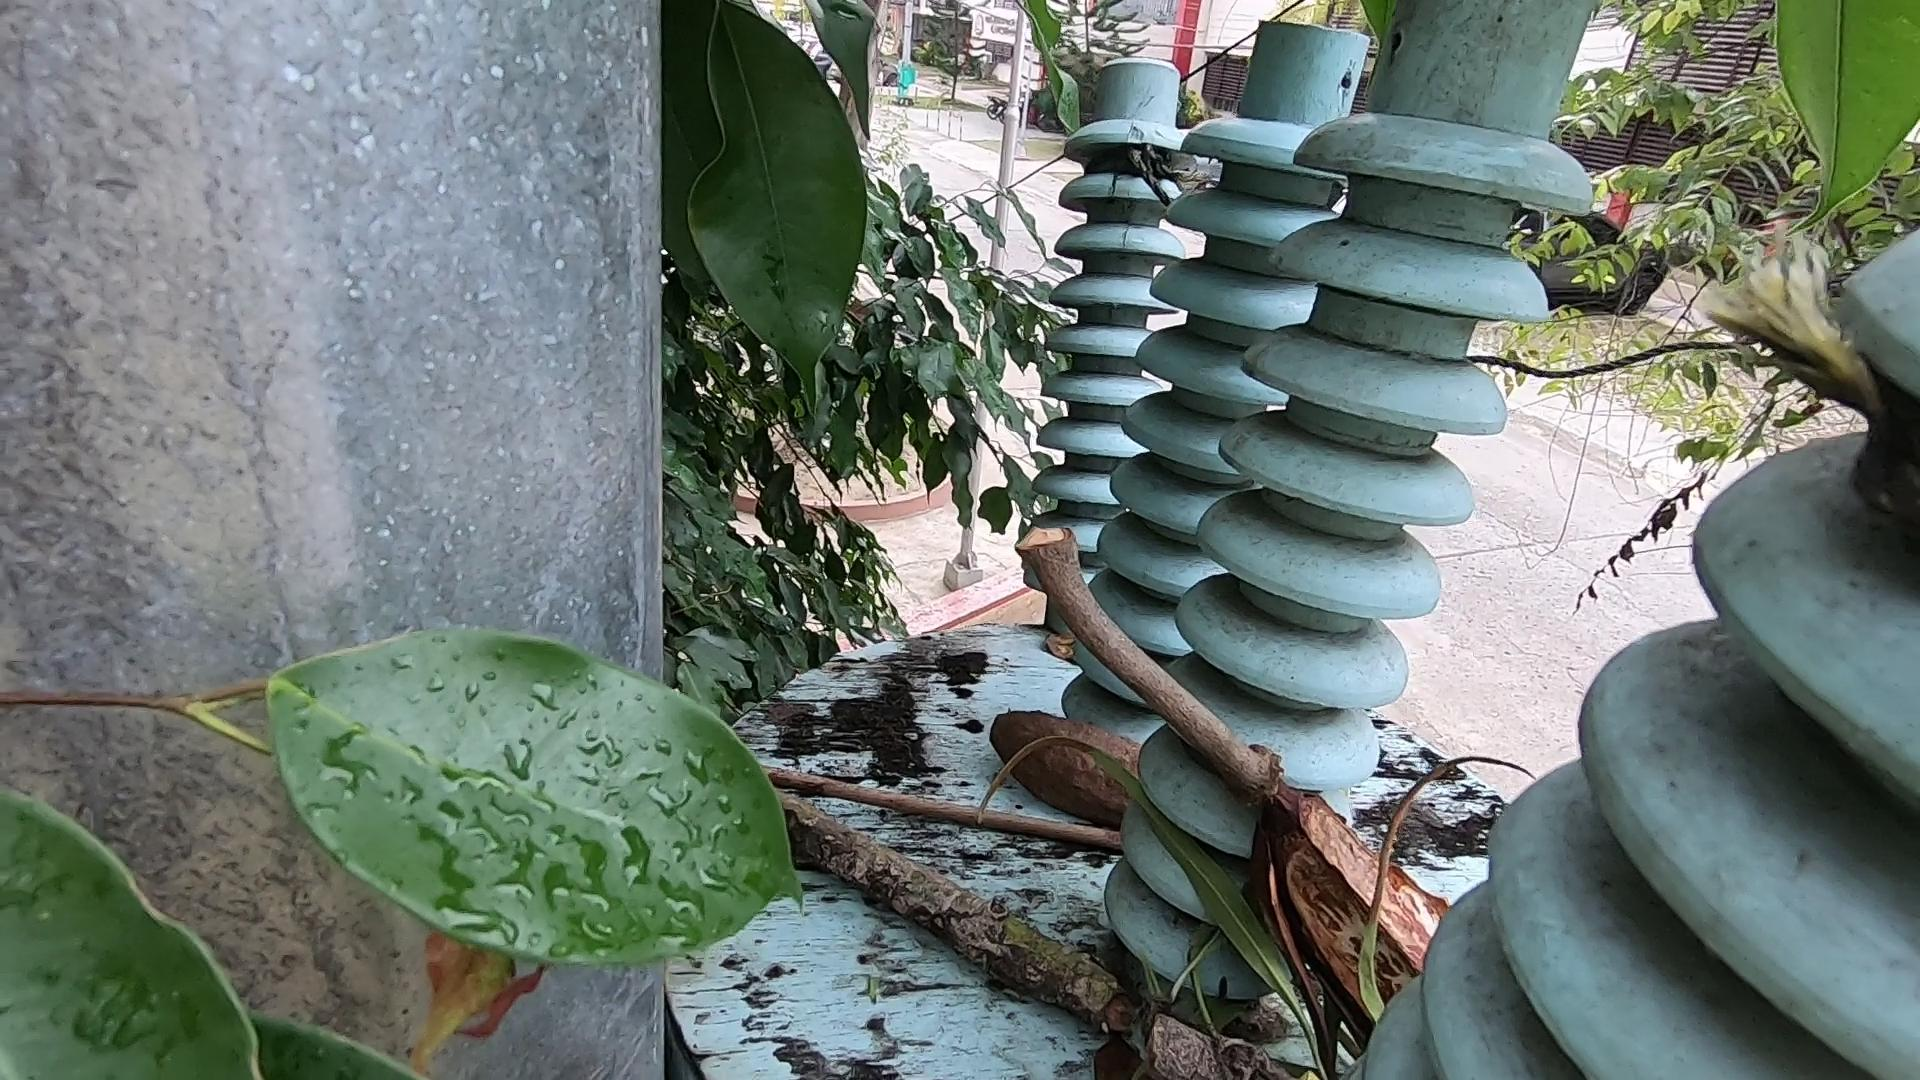branch with leaves: (783, 803, 1253, 1076)
leaf: (1081, 1030, 1139, 1069)
mahogany fruit: (1175, 702, 1472, 1060), (993, 673, 1182, 825)
tree branch: (1035, 531, 1291, 803), (760, 761, 1129, 849)
